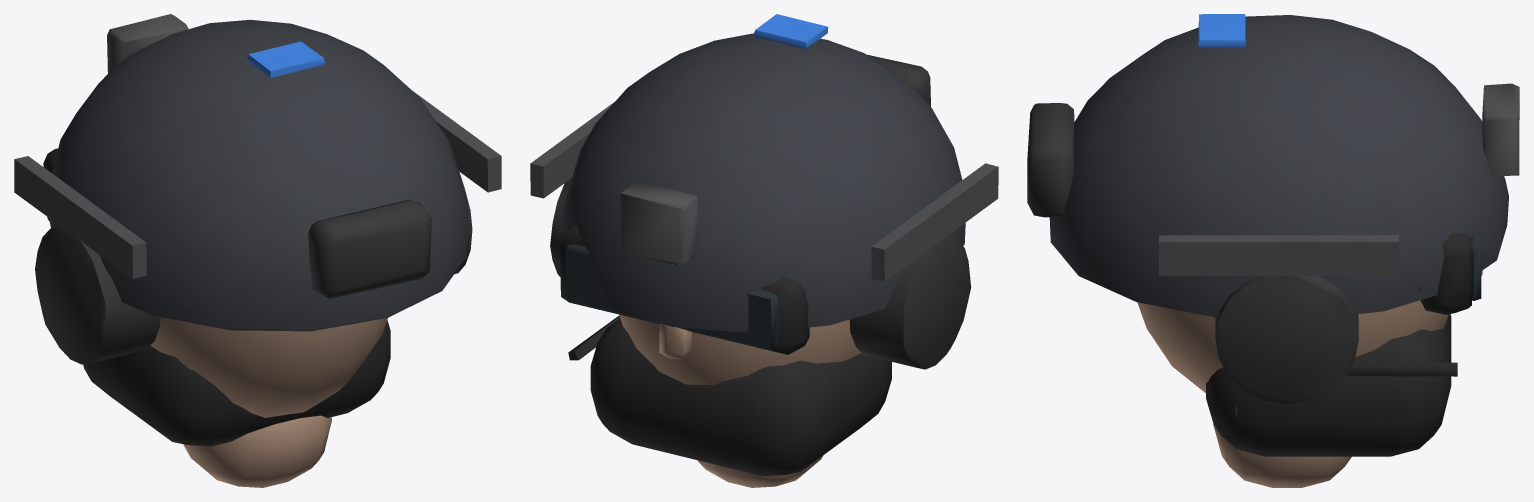
Rendered from SM_OperatorBHead_LOD1.fbx.
3 views of the same model, side by side, from view 1: azimuth 30°, elevation 25°; view 2: azimuth 150°, elevation 25°; view 3: azimuth 270°, elevation 25° (orthographic). The views are drawn at different scales.
Visible parts, largest first — view 1: SM_OperatorBHead_LOD1; view 2: SM_OperatorBHead_LOD1; view 3: SM_OperatorBHead_LOD1.
Part boxes in pixels (box(x1,y1,x2,y2)): SM_OperatorBHead_LOD1: box(14, 14, 501, 487); SM_OperatorBHead_LOD1: box(530, 14, 998, 487); SM_OperatorBHead_LOD1: box(1027, 14, 1519, 487).
Size of the model in its own units: 0.2692 by 0.3067 by 0.3032.
Materials: 1 (1 with a texture image).
